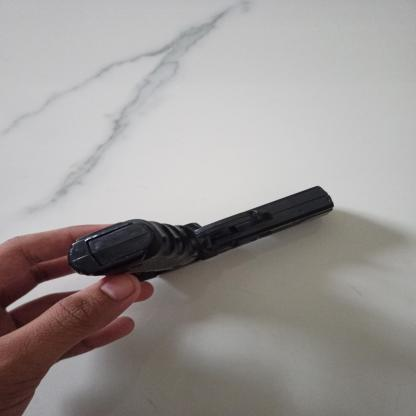handgun: (69, 183, 334, 282)
